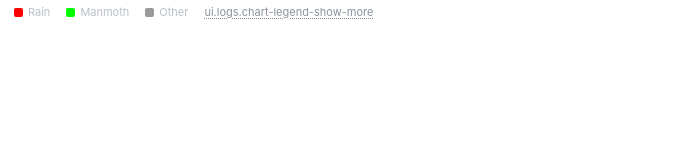
Scenario: ChartLegend — the capped tail › reveals every tail entry when the control is used
Click the button "ui.logs.chart-legend-show-more": (289, 13) [202,4,375,21]
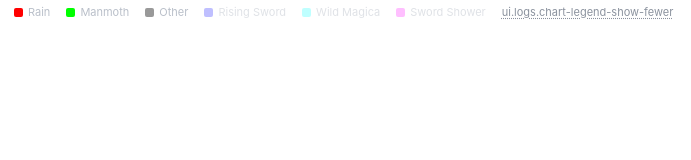
Expected: the text "Rising Sword" is shown, [218,5,286,20]
Expected: the text "Sword Shower" is shown, [410,5,486,20]
Expected: the text "ui.logs.chart-legend-show-fewer" is shown, [502,5,674,20]
